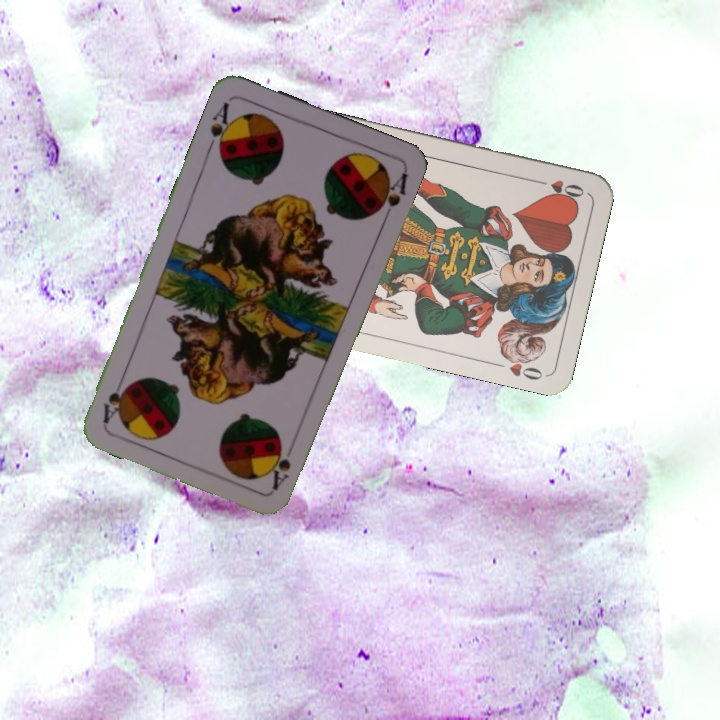HO: (530, 175, 587, 203)
SA: (203, 97, 238, 157), (267, 439, 294, 492)
